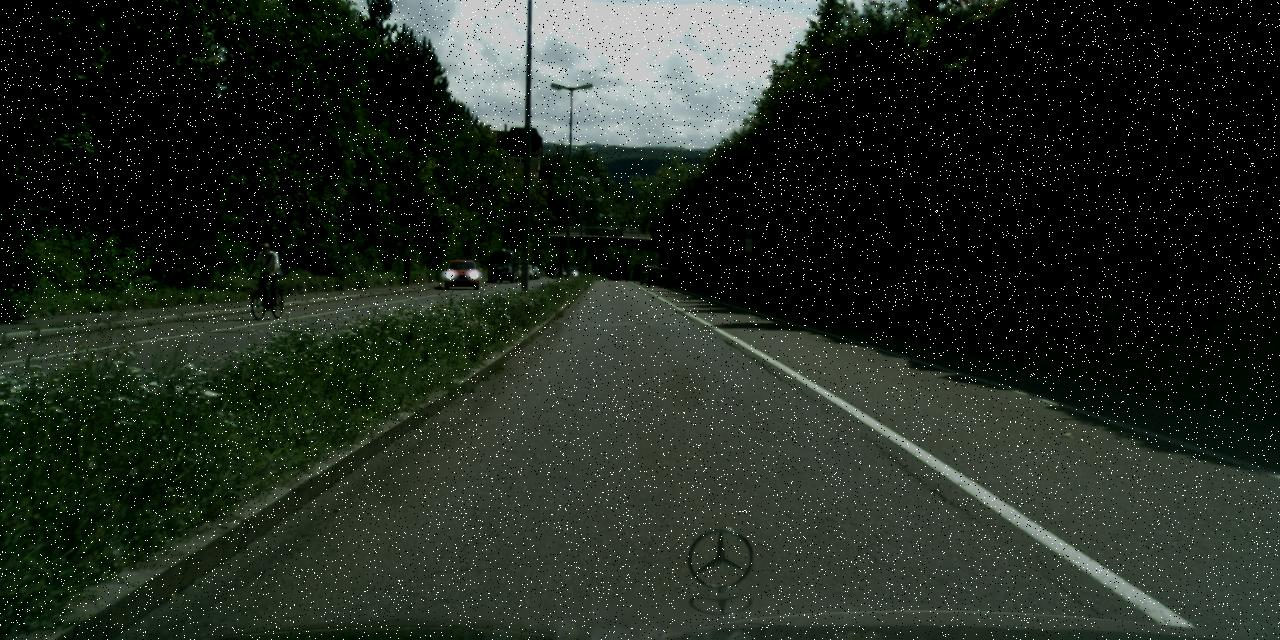ped: (254, 242, 282, 306)
